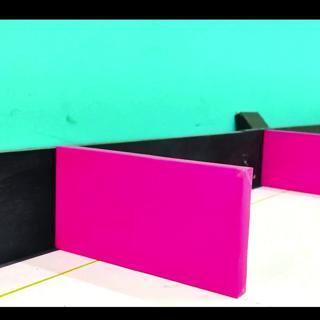xparking: (64, 174, 242, 290), (272, 136, 314, 193)
